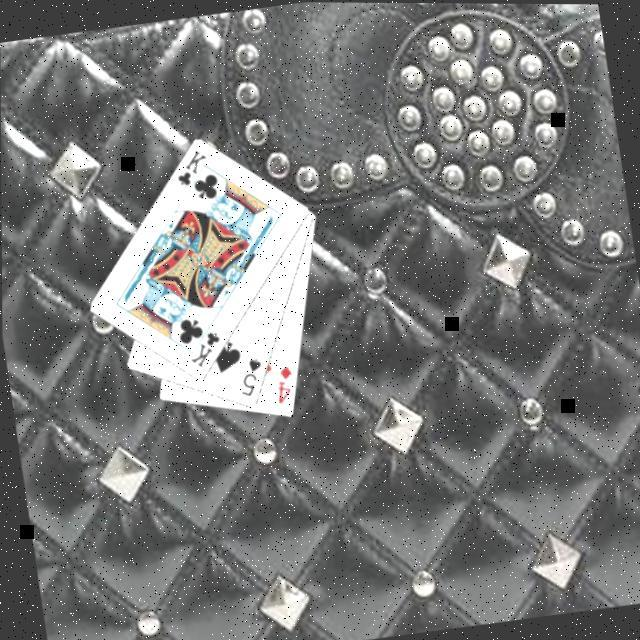4D: (267, 360, 297, 405)
5S: (231, 352, 267, 398)
KC: (180, 318, 224, 371), (167, 144, 211, 197)
